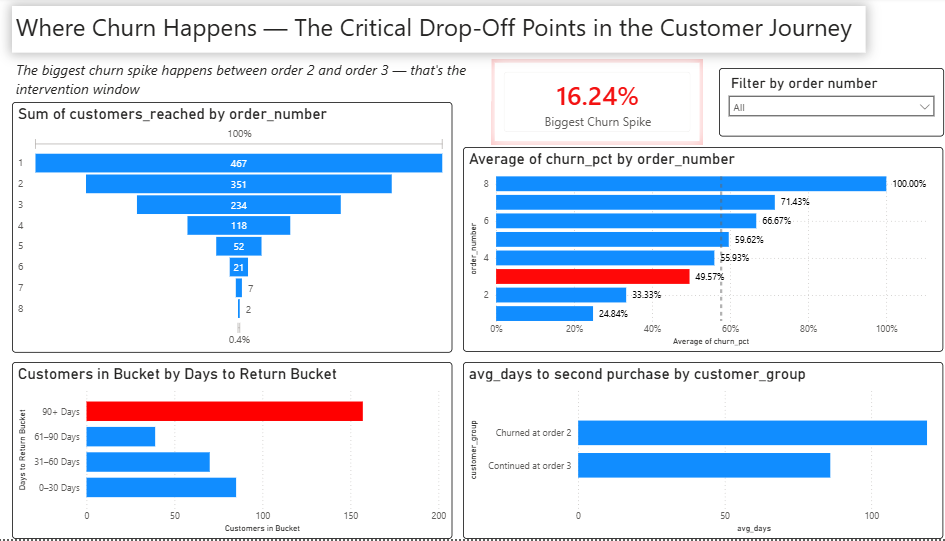

The page's visual inventory and layout, read from the dashboard file:
{"tool":"powerbi","page":{"name":"Where churn happens","canvas":[1280,720],"ordinal":2},"visuals":[{"type":"funnel","fields":{"Category":["churn_by_order_number.order_number"],"Y":["Sum(churn_by_order_number.customers_reached)"]},"box":[23.5,138.9,584.6,332.6],"z":1000},{"type":"clusteredBarChart","fields":{"Category":["churn_by_order_number.order_number"],"Y":["Avg(churn_by_order_number.churn_pct)"]},"box":[623.2,199.9,638.3,272.1],"z":2000},{"type":"cardVisual","fields":{"Data":["churn_by_order_number.Biggest Churn Spike"]},"box":[660.2,82.3,282.2,114.2],"z":3000},{"type":"clusteredBarChart","fields":{"Category":["fact_customer_orders.Days to Return Bucket"],"Y":["fact_customer_orders.Customers in Bucket"]},"box":[23.5,484.8,584.6,235.2],"z":4000},{"type":"clusteredBarChart","title":"avg_days to second purchase by customer_group","fields":{"Category":["return speed comparison.customer_group"],"Y":["Sum(return speed comparison.avg_days)"]},"box":[623.2,485.5,638.3,235.2],"z":5000},{"type":"textbox","box":[23.5,79,636.6,60.5],"z":6000},{"type":"slicer","fields":{"Values":["churn_by_order_number.order_number"]},"box":[962.5,94.1,299,90.7],"z":7000},{"type":"textbox","box":[23.5,11.8,1133.9,62.2],"z":7500}]}

Visuals, with their boxes in screenshot pixels (x1, y1, x2, y2), scaled from the page's 1280x720 canvas onto the 945x541 screenshot:
funnel - churn_by_order_number.order_number x Sum(churn_by_order_number.customers_reached): detection(17, 104, 449, 354)
clusteredBarChart - churn_by_order_number.order_number x Avg(churn_by_order_number.churn_pct): detection(460, 150, 931, 355)
cardVisual - churn_by_order_number.Biggest Churn Spike: detection(487, 62, 696, 148)
clusteredBarChart - fact_customer_orders.Days to Return Bucket x fact_customer_orders.Customers in Bucket: detection(17, 364, 449, 540)
"avg_days to second purchase by customer_group" clusteredBarChart: detection(460, 365, 931, 540)
textbox: detection(17, 59, 487, 105)
slicer - churn_by_order_number.order_number: detection(711, 71, 931, 139)
textbox: detection(17, 9, 854, 56)
